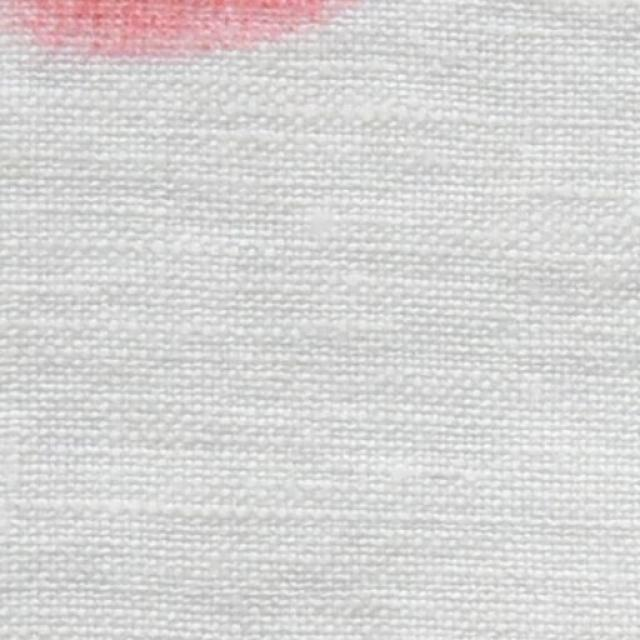Stain: (0, 1, 360, 57)
